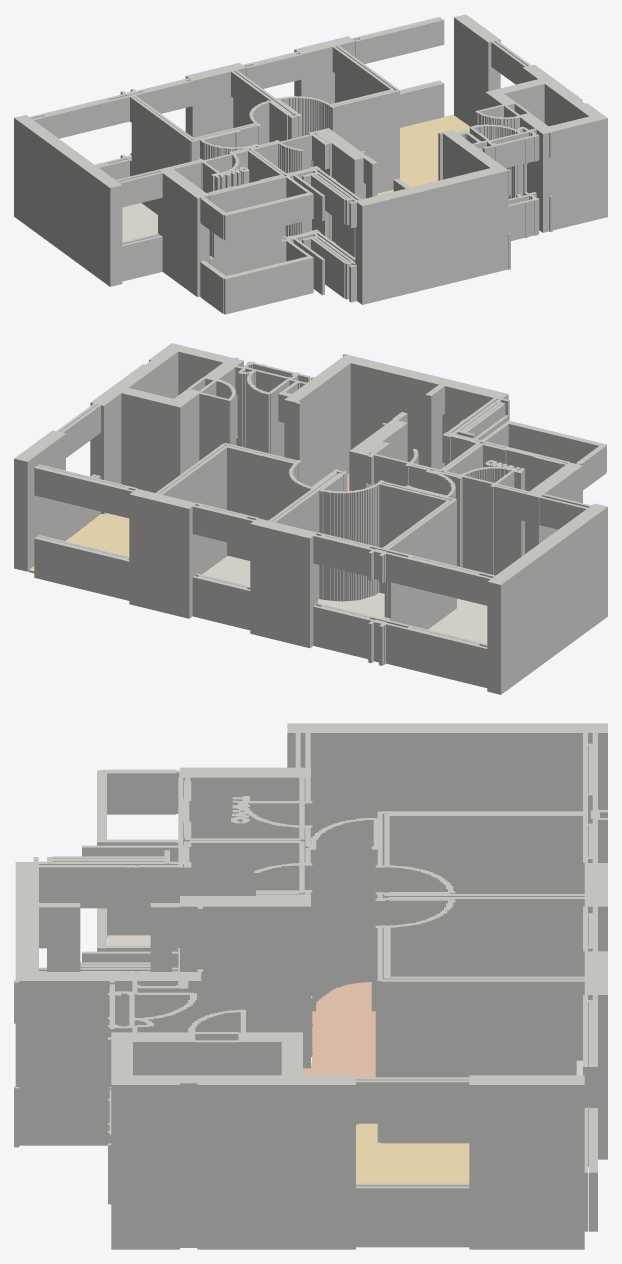
3 views of the same model, one above another, from view 1: azimuth 30°, elevation 25°; view 2: azimuth 150°, elevation 25°; view 3: azimuth 270°, elevation 25° (orthographic). The views are drawn at different scales.
Parts seen in each view (by area): view 1: walls, room:living:0, room:other:3; view 2: walls, room:living:0, room:other:3, room:other:5, room:other:4; view 3: walls, room:kitchen:2, room:living:0.
Part boxes in pixels (x1=…): walls: x1=14, y1=14, x2=607, y2=314; room:living:0: x1=377, y1=114, x2=469, y2=195; room:other:3: x1=122, y1=203, x2=157, y2=241; walls: x1=14, y1=343, x2=607, y2=694; room:living:0: x1=28, y1=513, x2=129, y2=573; room:other:3: x1=428, y1=598, x2=487, y2=643; room:other:5: x1=202, y1=555, x2=250, y2=586; room:other:4: x1=318, y1=592, x2=384, y2=618; walls: x1=14, y1=723, x2=607, y2=1249; room:kitchen:2: x1=303, y1=982, x2=375, y2=1124; room:living:0: x1=356, y1=1123, x2=469, y2=1183.
Bounding box in the file's own units: 13.19 × 2.8 × 9.15.
